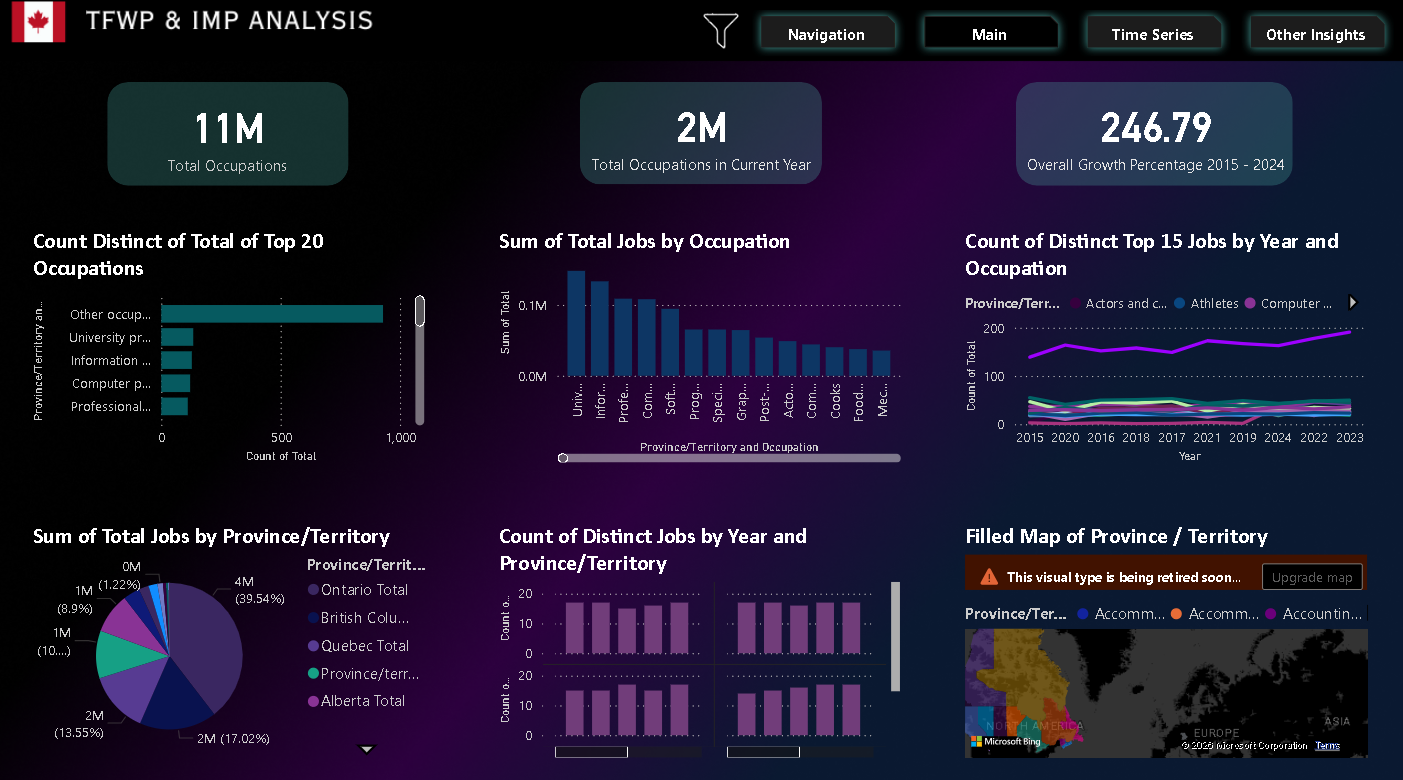

What the dashboard file says about the page in this screenshot:
{"tool":"powerbi","page":{"name":"Main","canvas":[1280,720],"ordinal":0},"visuals":[{"type":"shape","box":[52.4,76.6,219,94],"z":0,"group":"g3"},{"type":"shape","box":[988.8,76.6,219.8,93],"z":0,"group":"g4"},{"type":"shape","box":[369.4,77.9,219.8,93],"z":0,"group":"g2"},{"type":"group","id":"g1","title":"KPI 3","box":[670.4,77.9,251.2,94],"z":0,"group":"g5"},{"type":"shape","box":[670.4,77.9,251.2,94],"z":0,"group":"g1"},{"type":"pieChart","title":"Sum of Total Jobs by Province/Territory","fields":{"Y":["Sum(TFWPandIRCC.Total)"],"Category":["TFWPandIRCC.Province/Territory and Occupation"]},"box":[28.2,476.9,365.4,219],"z":0},{"type":"group","id":"g2","title":"KPI 2","box":[369.4,77.9,219,94],"z":1000,"group":"g5"},{"type":"card","fields":{"Values":["TFWPandIRCC.YoY_Percentage_Change"]},"box":[995,78.5,214.3,90.9],"z":1000,"group":"g4"},{"type":"card","fields":{"Values":["TFWPandIRCC.Total_Current_Year"]},"box":[375,80.2,209.6,90],"z":1000,"group":"g2"},{"type":"card","fields":{"Values":["TFWPandIRCC.Overall_Growth"]},"box":[675.8,81.9,243.2,84.6],"z":1000,"group":"g1"},{"type":"card","fields":{"Values":["TFWPandIRCC.Total_Occupations"]},"box":[91.4,82,142.4,84.6],"z":1000,"group":"g3"},{"type":"lineChart","title":"Count of Distinct Top 15 Jobs by Year and  Occupation","fields":{"Category":["TFWPandIRCC.Year"],"Y":["Count(TFWPandIRCC.Total)"],"Series":["TFWPandIRCC.Province/Territory and Occupation"]},"box":[874.6,208.2,374.8,219],"z":1000},{"type":"group","id":"g3","title":"KPI 1","box":[52.4,76.6,219,94],"z":2000,"group":"g5"},{"type":"clusteredBarChart","title":"Count Distinct of Total of Top 20 Occupations","fields":{"Y":["Count(TFWPandIRCC.Total)"],"Category":["TFWPandIRCC.Province/Territory and Occupation"]},"box":[28.2,208.2,365.4,219],"z":2000},{"type":"group","id":"g4","title":"KPI 4","box":[988.8,76.6,220.3,94],"z":3000,"group":"g5"},{"type":"clusteredColumnChart","title":"Sum of Total Jobs by Occupation","fields":{"Category":["TFWPandIRCC.Province/Territory and Occupation"],"Y":["Sum(TFWPandIRCC.Total)"]},"box":[451.4,208.2,374.8,219],"z":3000},{"type":"image","title":"Filter","box":[1209.1,0,56.7,53.3],"z":4000},{"type":"lineChart","title":"Count of Total Distinct Jobs by Year","fields":{"Y":["Count(TFWPandIRCC.Total)"],"Category":["TFWPandIRCC.Year"]},"box":[451.4,463.5,352,232.4],"z":5000},{"type":"clusteredBarChart","title":"Sum of Total Jobs by Year","fields":{"Category":["TFWPandIRCC.Year"],"Y":["Sum(TFWPandIRCC.Total)"]},"box":[897.4,463.5,352,232.4],"z":6000},{"type":"group","id":"g5","title":"KPIs","box":[52.4,76.6,1156.7,95.4],"z":8000}]}

Visuals, with their boxes in screenshot pixels (x1, y1, x2, y2), scaled from the page's 1280x720 canvas onto the 1403x780 screenshot:
shape: region(57, 83, 297, 185)
shape: region(1084, 83, 1325, 184)
shape: region(405, 84, 646, 185)
"KPI 3" group: region(735, 84, 1010, 186)
shape: region(735, 84, 1010, 186)
"Sum of Total Jobs by Province/Territory" pieChart: region(31, 517, 431, 754)
"KPI 2" group: region(405, 84, 645, 186)
card - TFWPandIRCC.YoY_Percentage_Change: region(1091, 85, 1326, 184)
card - TFWPandIRCC.Total_Current_Year: region(411, 87, 641, 184)
card - TFWPandIRCC.Overall_Growth: region(741, 89, 1007, 180)
card - TFWPandIRCC.Total_Occupations: region(100, 89, 256, 180)
"Count of Distinct Top 15 Jobs by Year and  Occupation" lineChart: region(959, 226, 1369, 463)
"KPI 1" group: region(57, 83, 297, 185)
"Count Distinct of Total of Top 20 Occupations" clusteredBarChart: region(31, 226, 431, 463)
"KPI 4" group: region(1084, 83, 1325, 185)
"Sum of Total Jobs by Occupation" clusteredColumnChart: region(495, 226, 906, 463)
"Filter" image: region(1325, 0, 1387, 58)
"Count of Total Distinct Jobs by Year" lineChart: region(495, 502, 881, 754)
"Sum of Total Jobs by Year" clusteredBarChart: region(984, 502, 1369, 754)
"KPIs" group: region(57, 83, 1325, 186)
